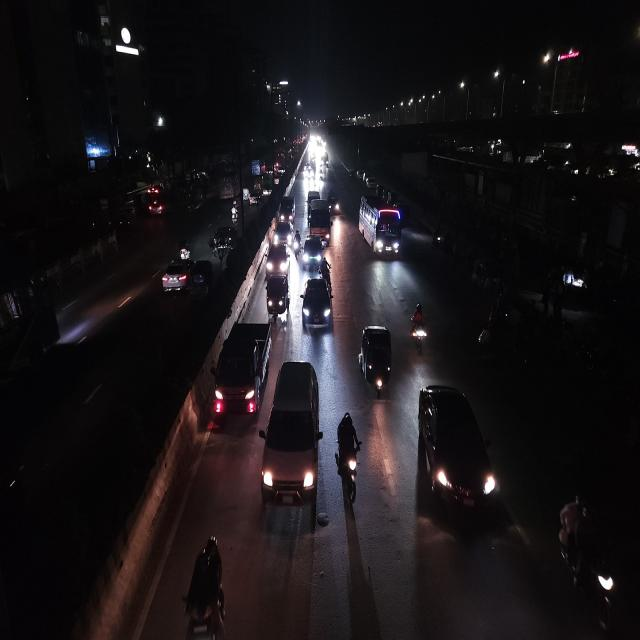bus: (357, 191, 406, 263)
car: (415, 379, 501, 524), (260, 356, 324, 511), (300, 275, 334, 338), (160, 255, 193, 297), (264, 241, 290, 278), (302, 233, 326, 272), (271, 220, 293, 248), (249, 187, 262, 208)
cng: (356, 320, 394, 402), (265, 270, 291, 330), (189, 255, 214, 304)
motorcycle: (553, 492, 630, 638), (336, 408, 364, 506), (408, 301, 430, 356), (176, 237, 192, 262), (292, 226, 303, 256), (229, 197, 240, 226)
truck: (211, 318, 272, 425), (308, 202, 332, 248), (278, 194, 297, 227), (278, 194, 296, 227)
